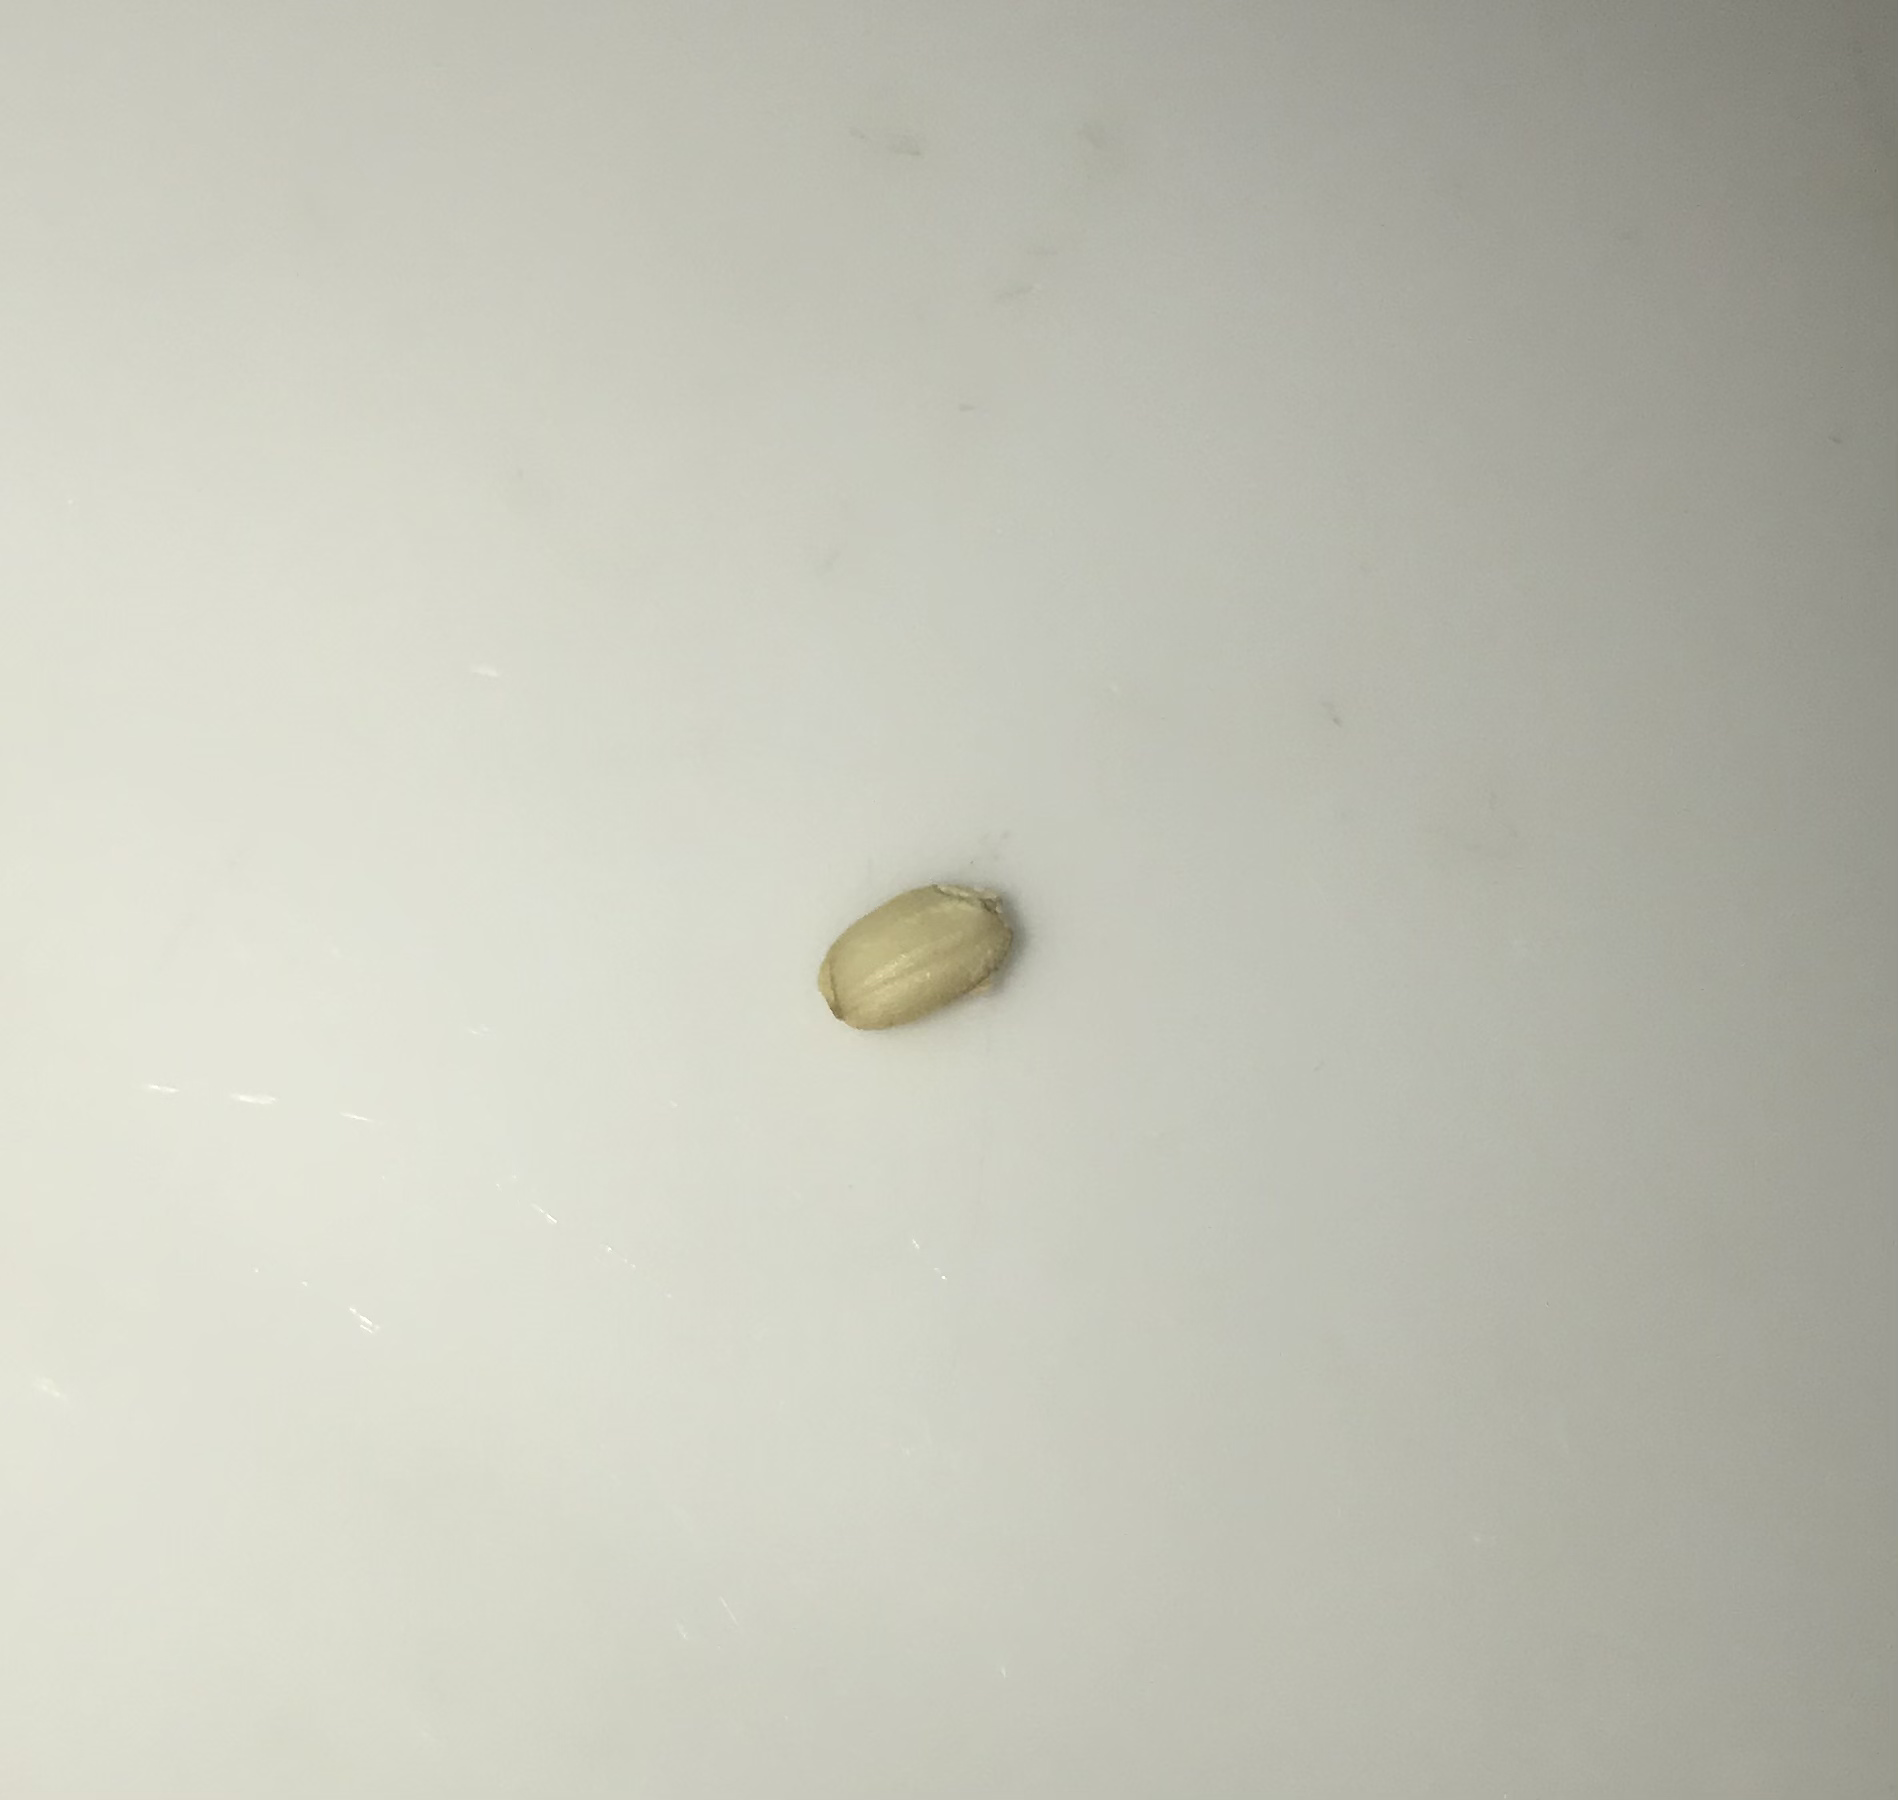Gao Lut Bac: (805, 873, 1023, 1045)
